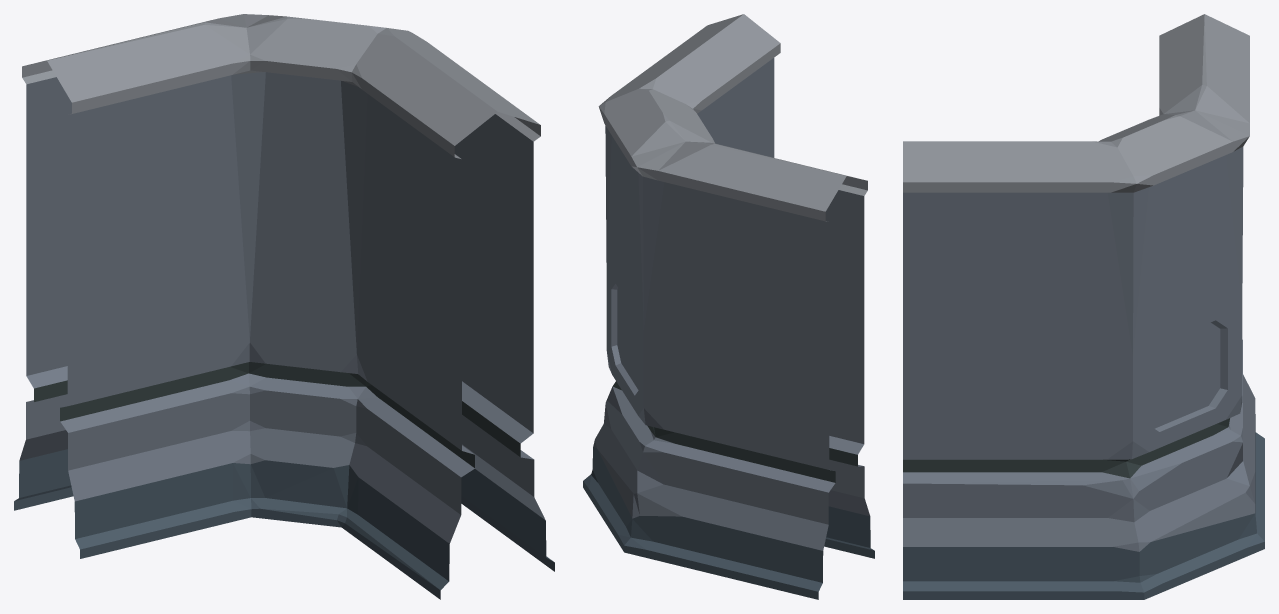
Rendered from BevelCorner2.fbx.
The picture shows the model from 3 angles, left to right: view 1: azimuth 30°, elevation 25°; view 2: azimuth 150°, elevation 25°; view 3: azimuth 270°, elevation 25°; orthographic projection. The views are drawn at different scales.
Parts seen in each view (by area): view 1: BevelCorner2; view 2: BevelCorner2; view 3: BevelCorner2.
Boxes of the visible parts, x1,y1,x2,y2 form: BevelCorner2: [14, 14, 554, 599]; BevelCorner2: [583, 14, 874, 599]; BevelCorner2: [903, 14, 1264, 599].
Size of the model in its own units: 360 by 476 by 360.
